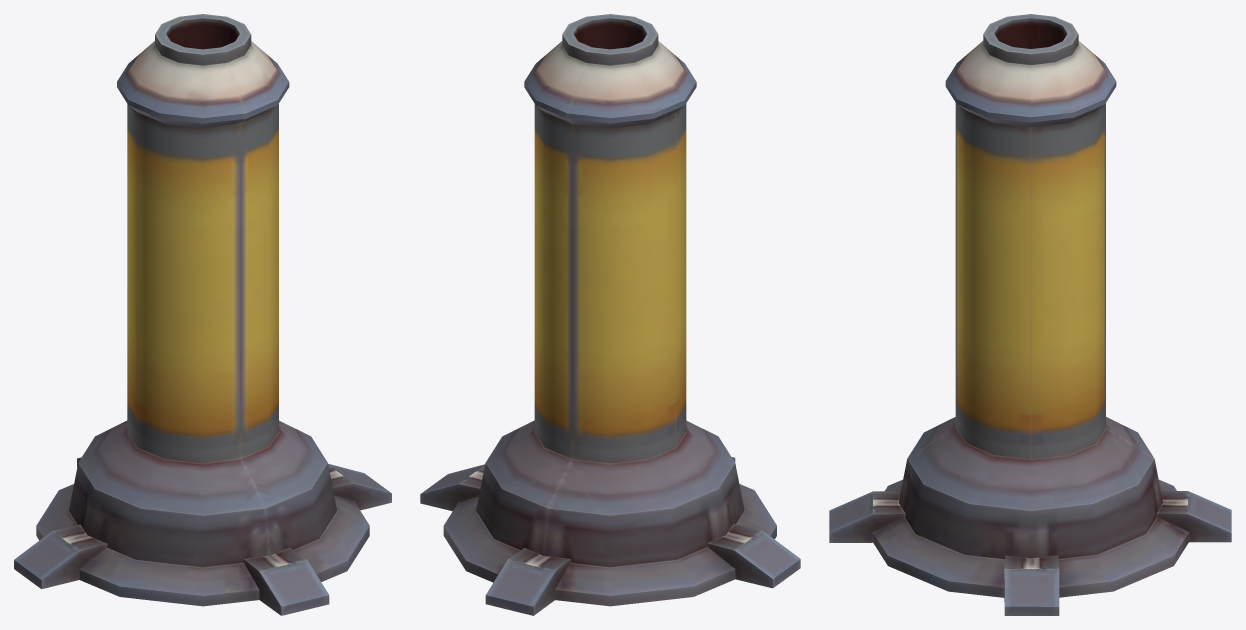
Rendered from pref_sm_city_lamp01_snow_lv3.fbx.
3 renders of one model, left to right at view 1: azimuth 30°, elevation 25°; view 2: azimuth 150°, elevation 25°; view 3: azimuth 270°, elevation 25°, orthographic.
Visible parts, largest first — view 1: pref_sm_city_lamp01_snow_lv3; view 2: pref_sm_city_lamp01_snow_lv3; view 3: pref_sm_city_lamp01_snow_lv3.
Boxes of the visible parts, x1,y1,x2,y2 form: pref_sm_city_lamp01_snow_lv3: (14,14,391,615); pref_sm_city_lamp01_snow_lv3: (420,14,800,615); pref_sm_city_lamp01_snow_lv3: (829,14,1231,615).
Size of the model in its own units: 0.9406 by 1.28 by 0.9409.
